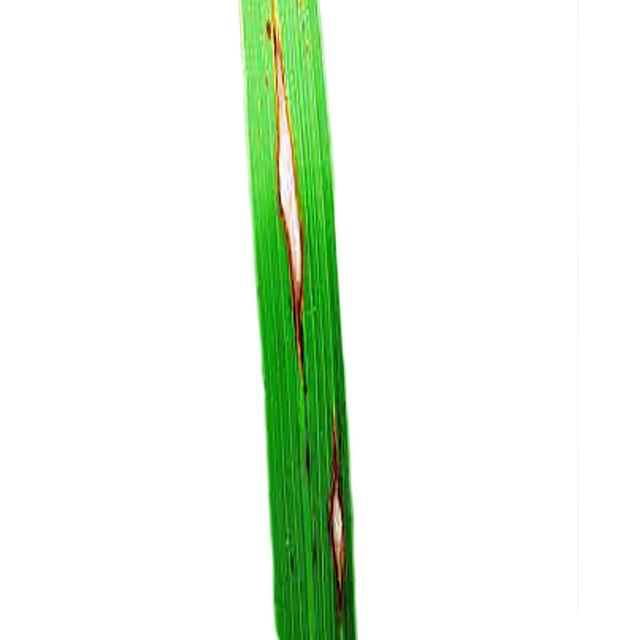Leaf blast: (186, 0, 408, 640)
